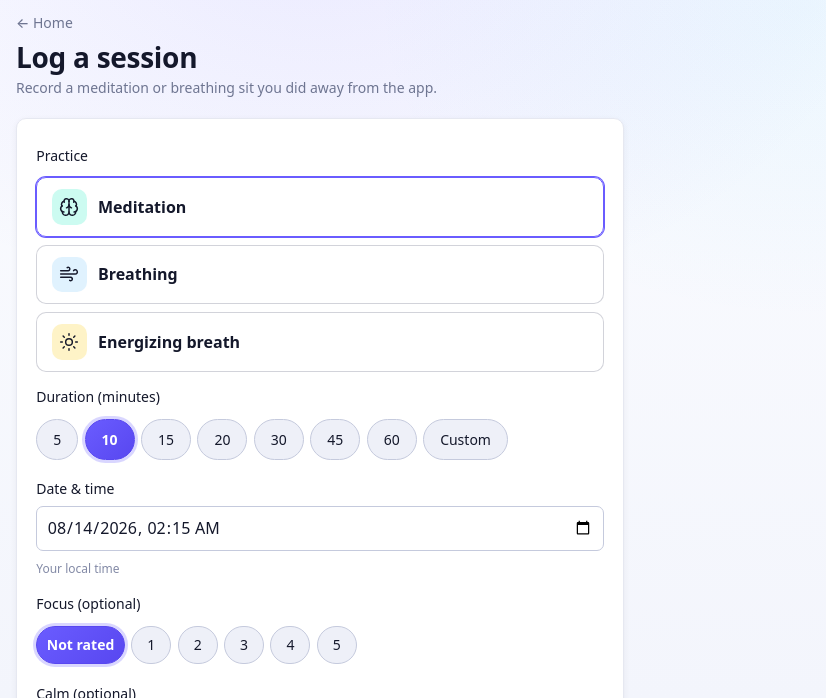
Test: LogSessionPage › shows a validation error when Custom duration is empty
This screenshot has width=826, height=698.
Note: Click Custom and leave the number blank.
Click the button "Custom": (466,440) 423,419 -> 508,460
(page scrolled)
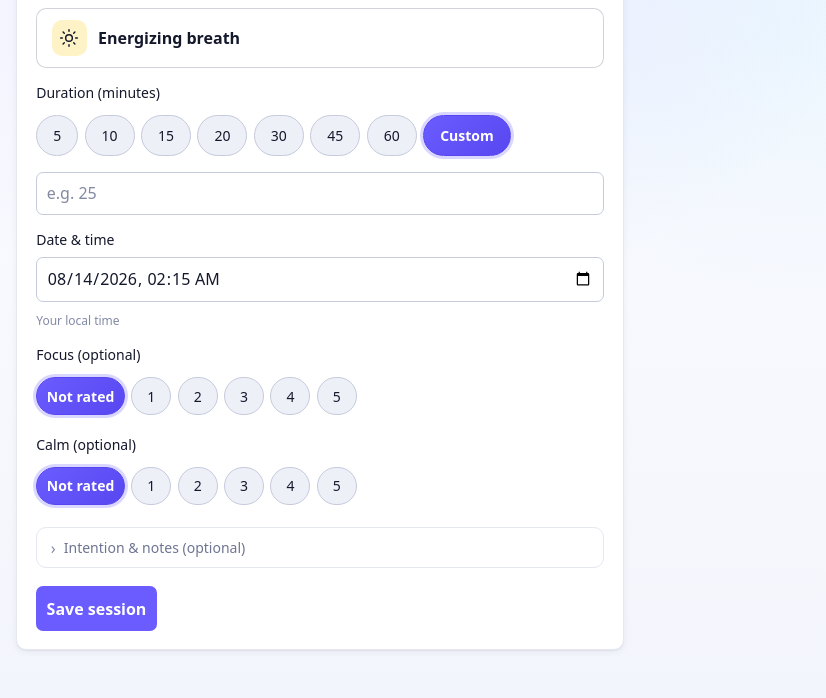
Click the button "Save session": (96,609) 36,586 -> 157,631
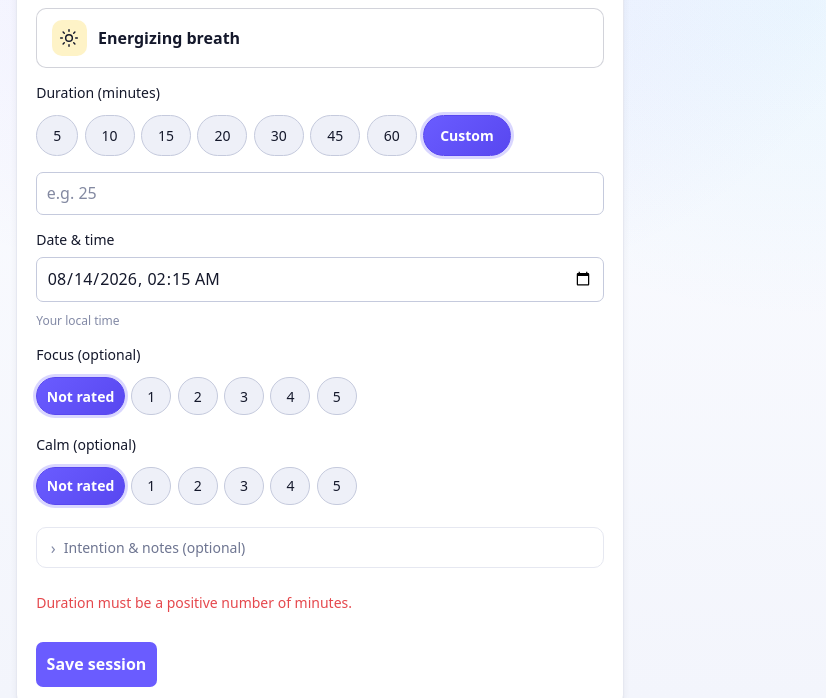
Now the message shows "positive number", box 36,593 -> 352,612
